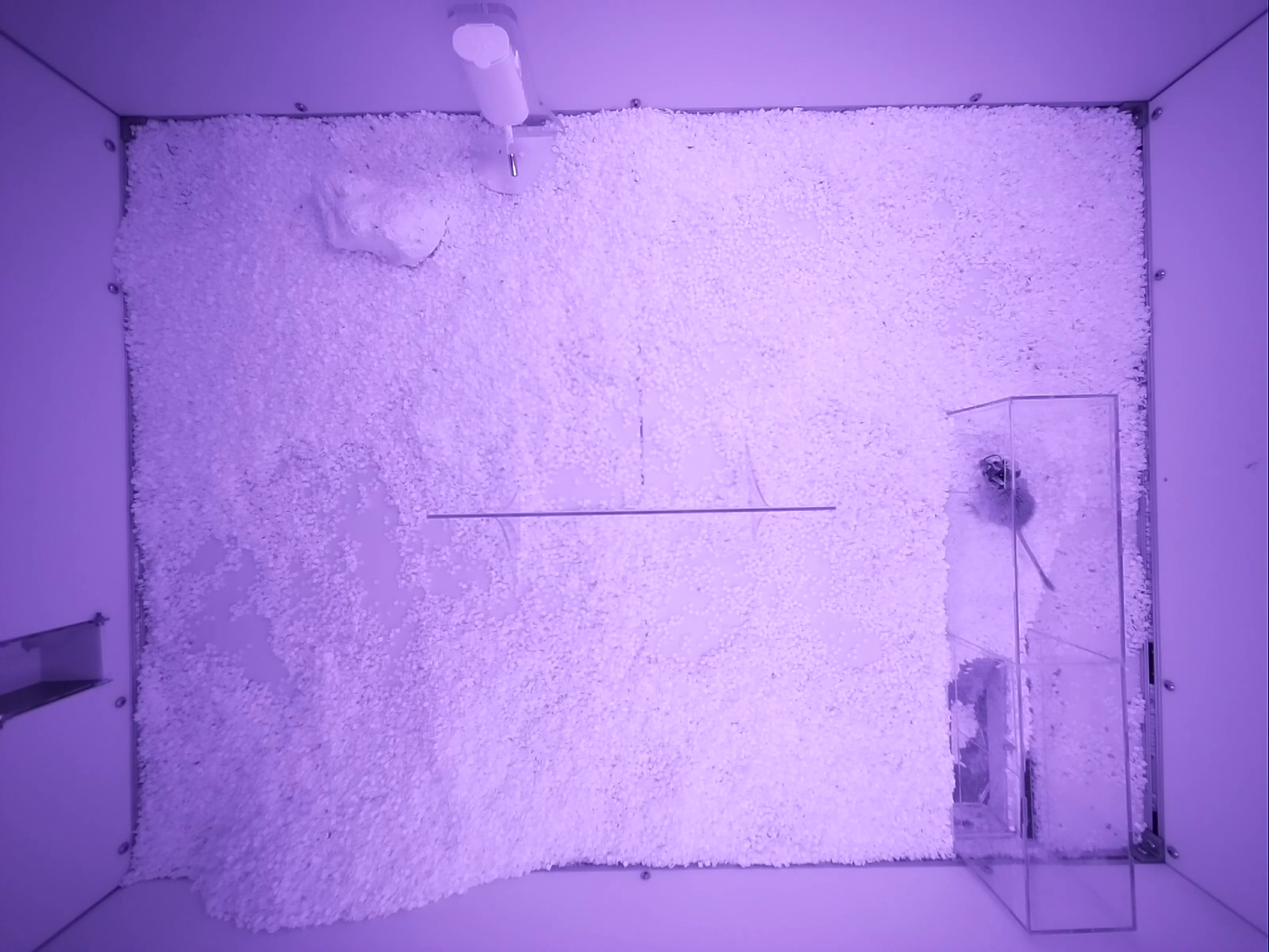adult_back: (975, 454, 1053, 589)
